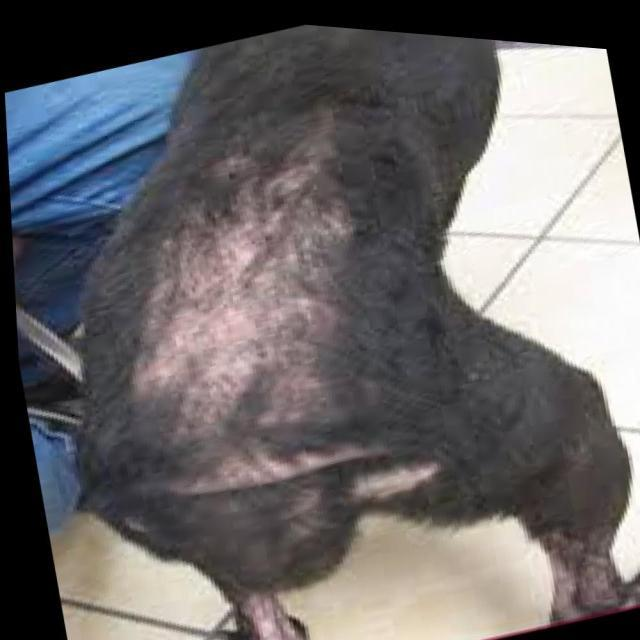allergic dermatitis: (137, 114, 331, 448)
